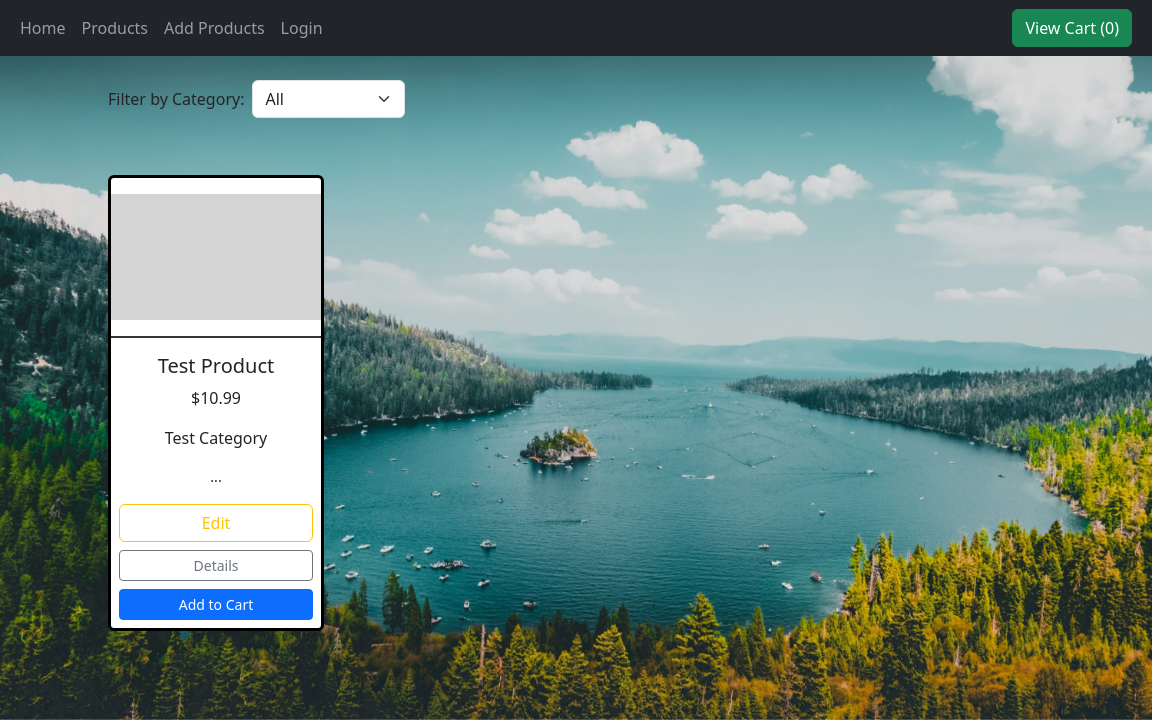
Test case: Cart integration › updates cart when adding a product
Step 1. Click the button "Add to Cart" → (216, 604), box x1=119 y1=589 x2=313 y2=620
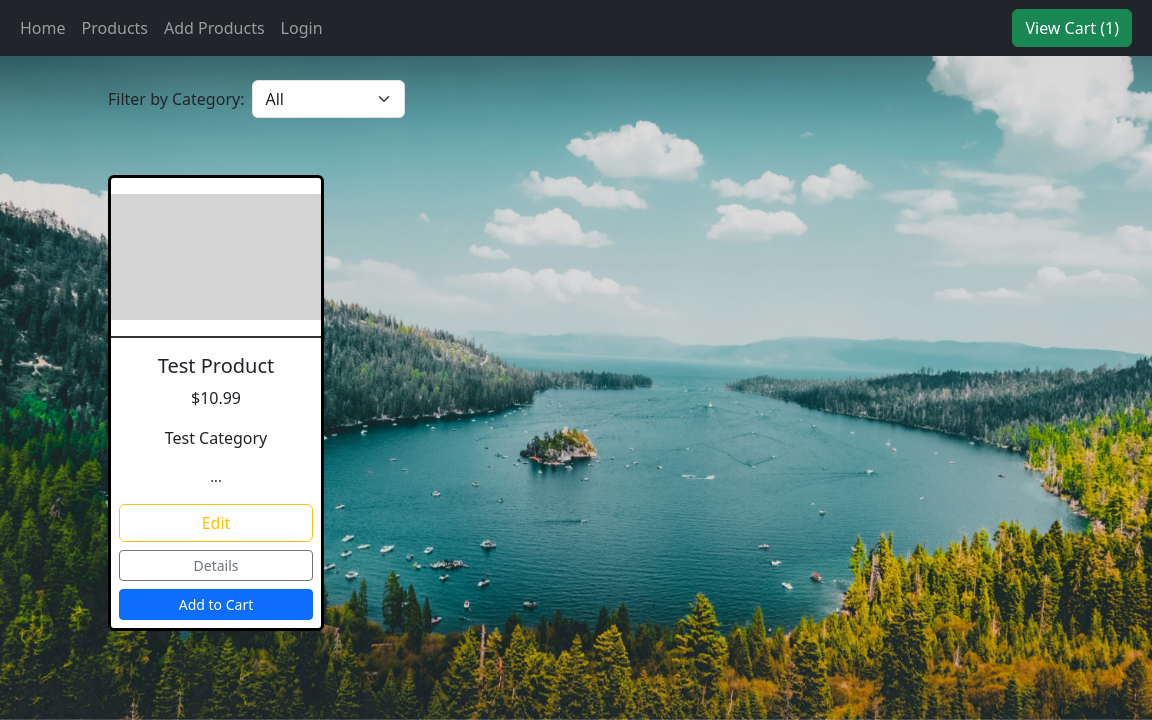
Step 2. Click the button "View Cart (1)" → (1072, 28), box x1=1012 y1=9 x2=1132 y2=47
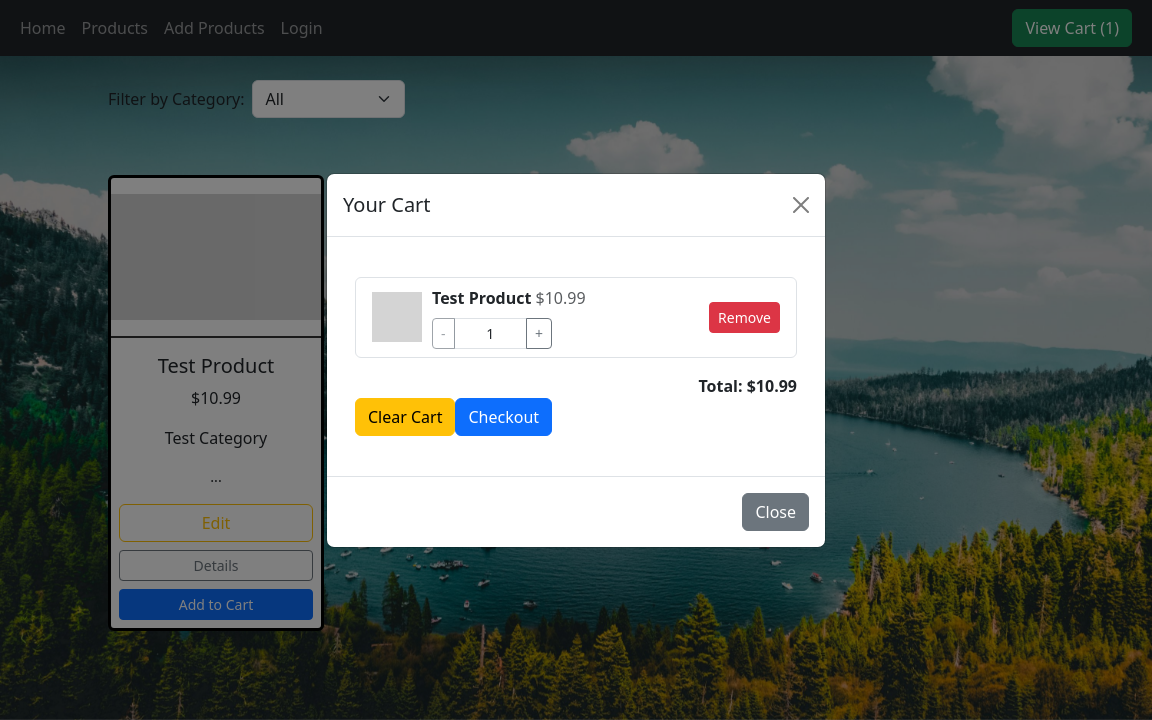
Now the list item with test id "cart-item" is shown, box x1=355 y1=276 x2=797 y2=358
